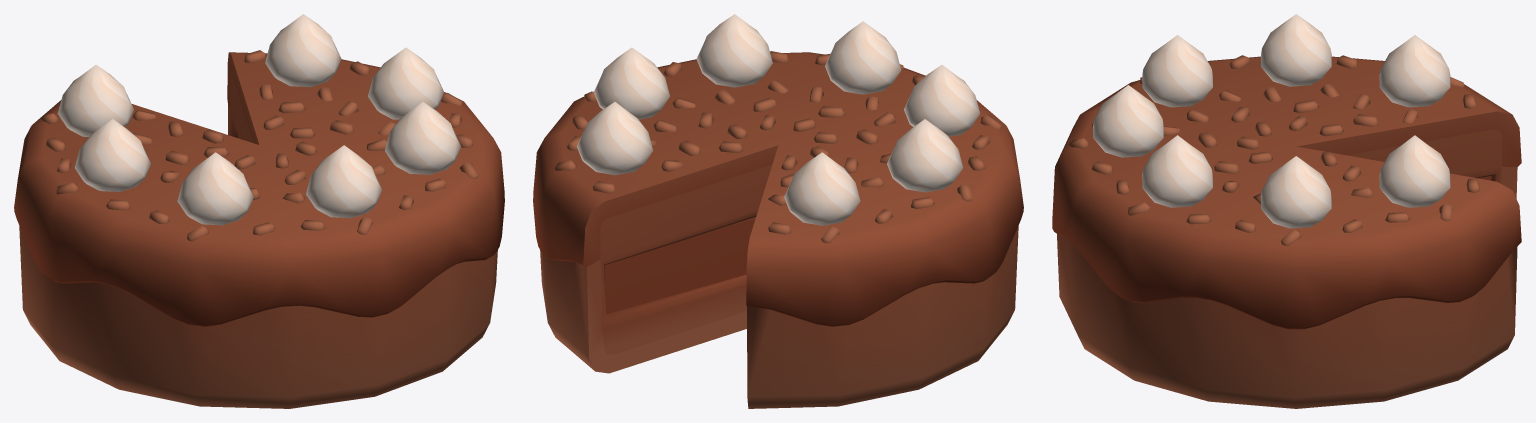
The model's file is cake_chocolate_cut.obj.
3 views of the same model, side by side, from view 1: azimuth 30°, elevation 25°; view 2: azimuth 150°, elevation 25°; view 3: azimuth 270°, elevation 25° (orthographic).
Parts seen in each view (by area): view 1: cake_chocolate_cut; view 2: cake_chocolate_cut; view 3: cake_chocolate_cut.
Part boxes in pixels (bbox=[...]): cake_chocolate_cut: bbox=[14, 14, 504, 408]; cake_chocolate_cut: bbox=[533, 14, 1023, 408]; cake_chocolate_cut: bbox=[1052, 14, 1521, 408].
Bounding box in the file's own units: 1.22 × 0.6442 × 1.17.
Materials: 1 (1 with a texture image).
